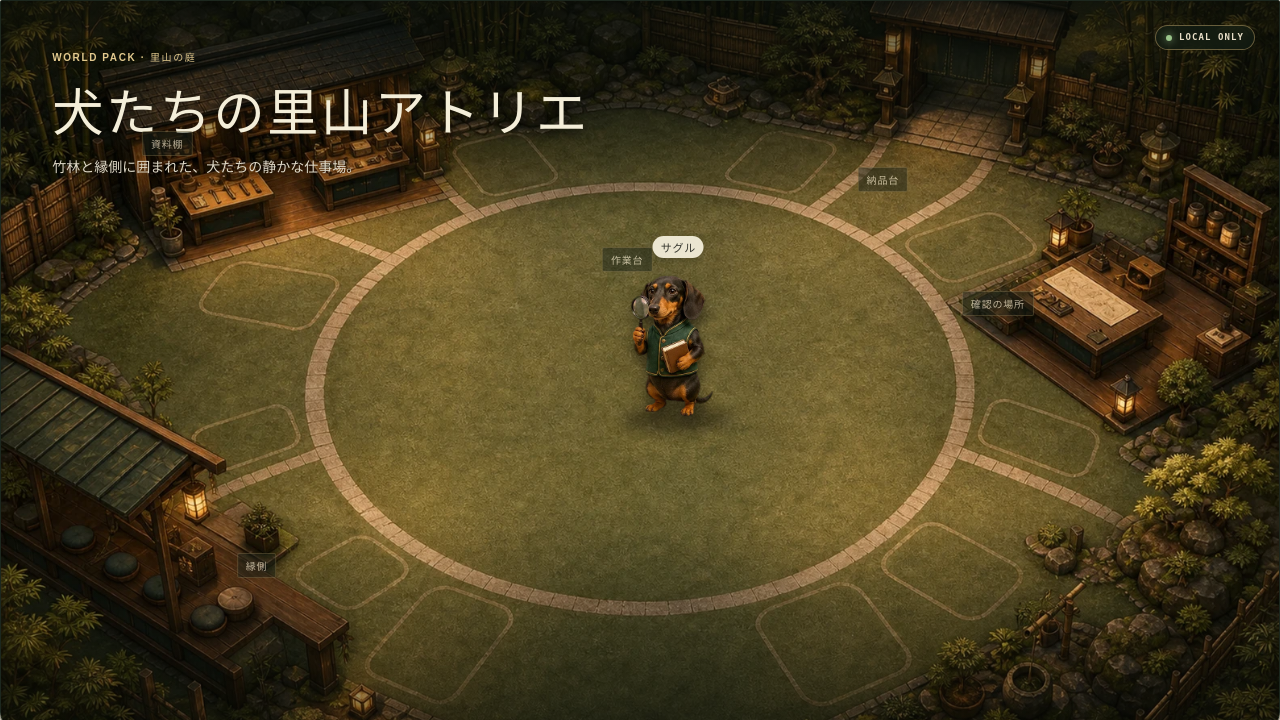
it: WorldStage › opens a small inspect when the employee or a station is clicked
The image size is (1280, 720).
Click the button with test id "garden-employee" at [678, 335], box [586, 243, 770, 427]
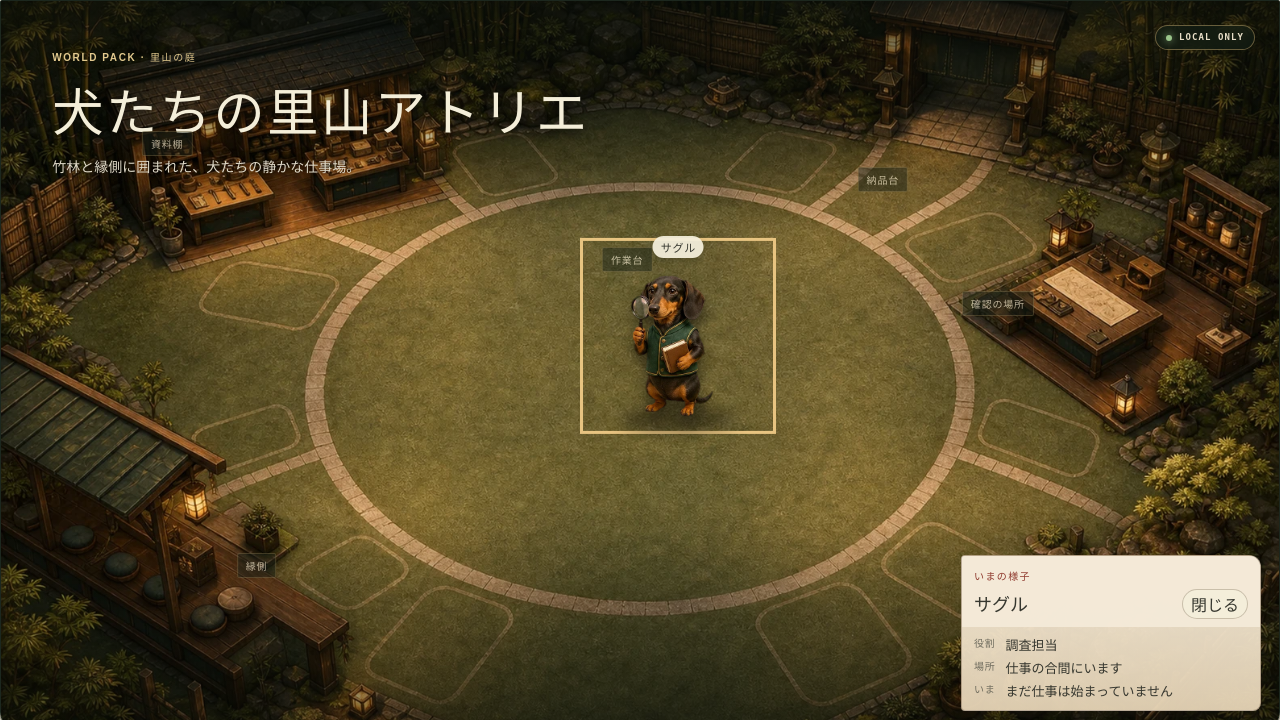
Expected: the element with test id "garden-inspect" shows "サグル", [974, 595, 1028, 615]
Expected: the element with test id "garden-inspect" shows "調査担当", [1006, 638, 1058, 653]
Expected: the element with test id "garden-inspect" shows "仕事の合間にいます", [1006, 661, 1123, 676]
Click the button "資料棚" at [167, 144], box [142, 131, 192, 156]
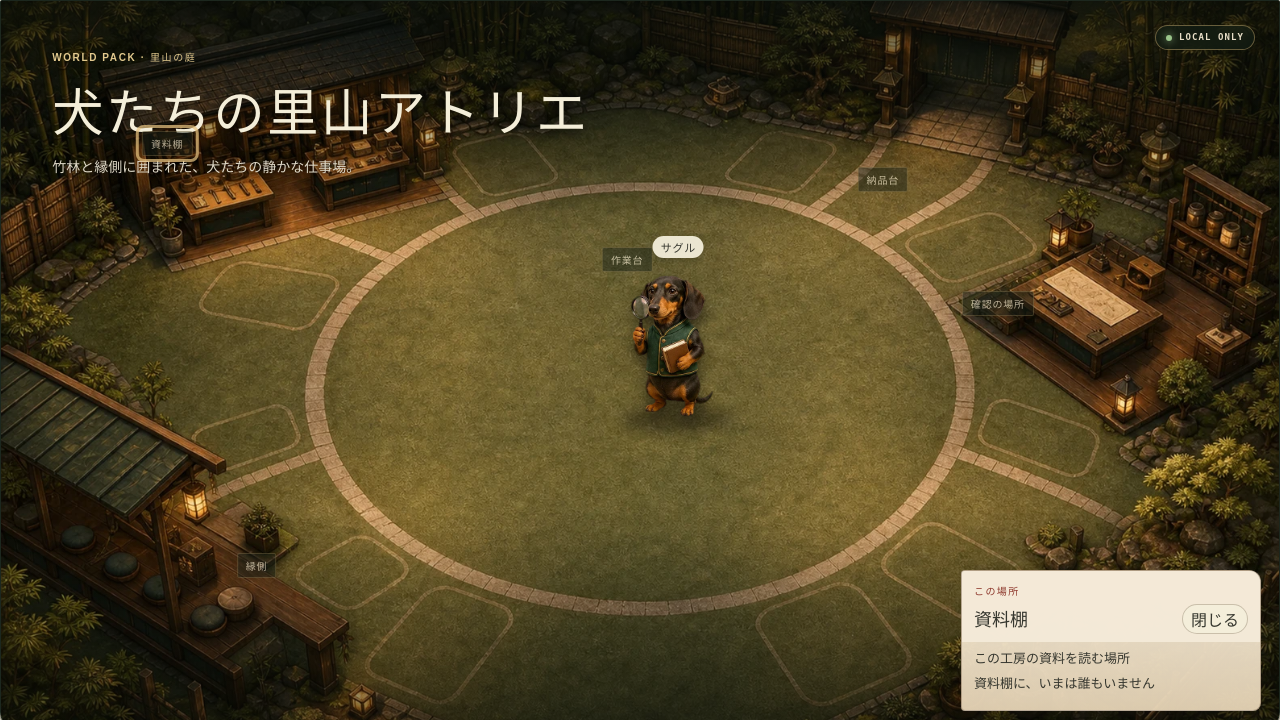
Expected: the element with test id "garden-inspect" shows "この工房の資料を読む場所", [974, 651, 1130, 666]
Expected: the element with test id "garden-inspect" shows "資料棚に、いまは誰もいません", [974, 676, 1155, 691]
Press Escape
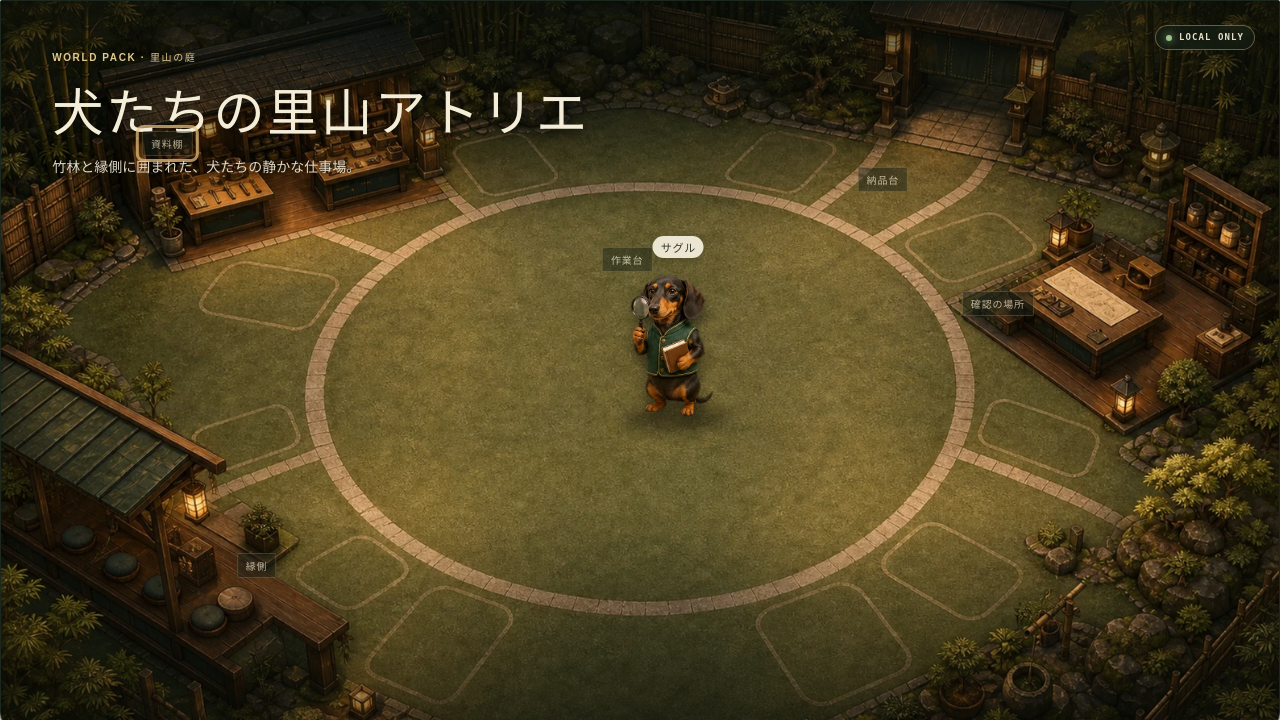
Expected: the element with test id "garden-inspect" is gone
